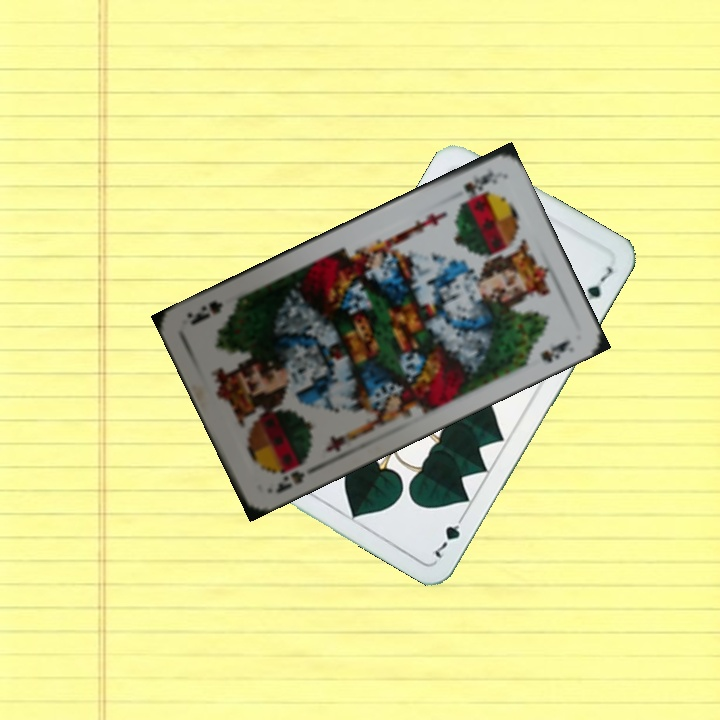G7: (427, 508, 468, 561)
SK: (459, 165, 500, 197), (271, 467, 308, 496)
